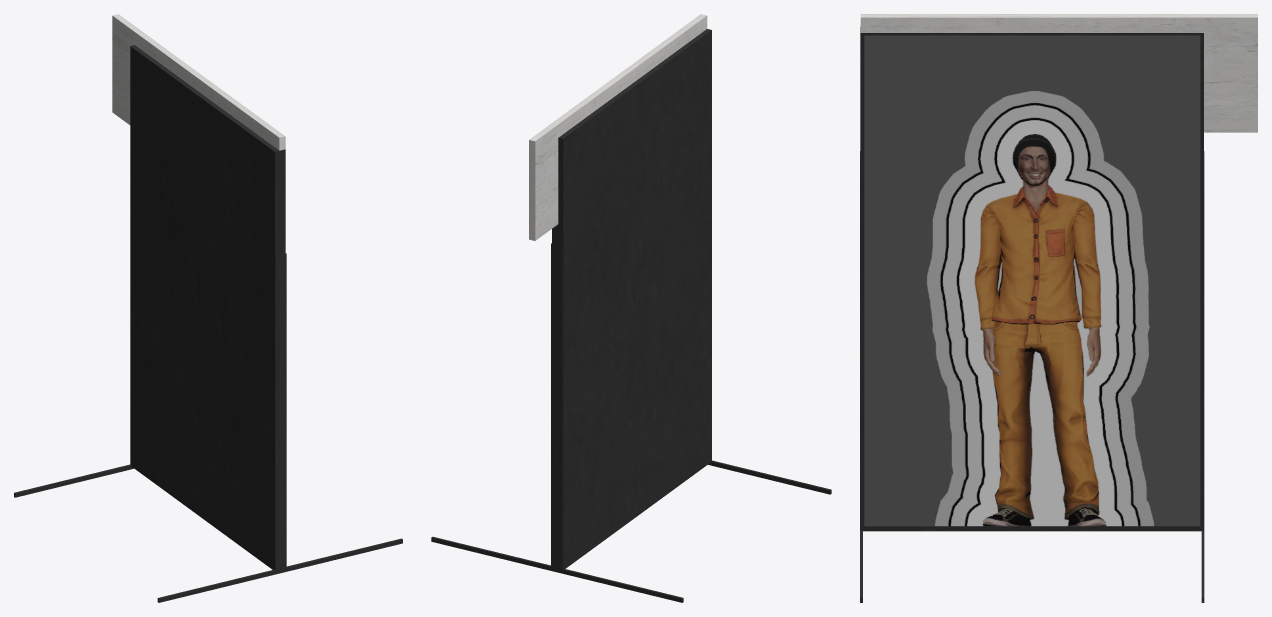
The model's file is dboyTargetPrefab.fbx.
The picture shows the model from 3 angles, left to right: view 1: azimuth 30°, elevation 25°; view 2: azimuth 150°, elevation 25°; view 3: azimuth 270°, elevation 25°; orthographic projection. The views are drawn at different scales.
Visible parts, largest first — view 1: TargetBg, Control, Legs, Legs (1) (×2); view 2: TargetBg, Legs (1) (×3), Control; view 3: TargetNorm, Control, TargetBg, Legs (1), Legs.
Boxes of the visible parts, x1,y1,x2,y2 form: TargetBg: (130,45,285,570); Control: (112,14,285,150); Legs: (275,253,286,572); Legs (1) (×2): (14,464,402,602); TargetBg: (552,29,711,569); Legs (1) (×3): (431,243,831,602); Control: (529,14,707,240); TargetNorm: (864,35,1200,526); Control: (860,14,1257,132); TargetBg: (860,27,1203,531); Legs (1): (1201,151,1204,530); Legs: (860,151,862,530).
Bounding box in the file's own units: 1.84 × 3.14 × 2.19.
4 materials, 4 textured.
